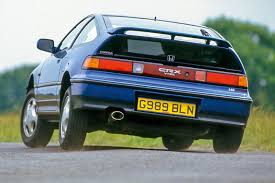Honda: (20, 8, 252, 153)
